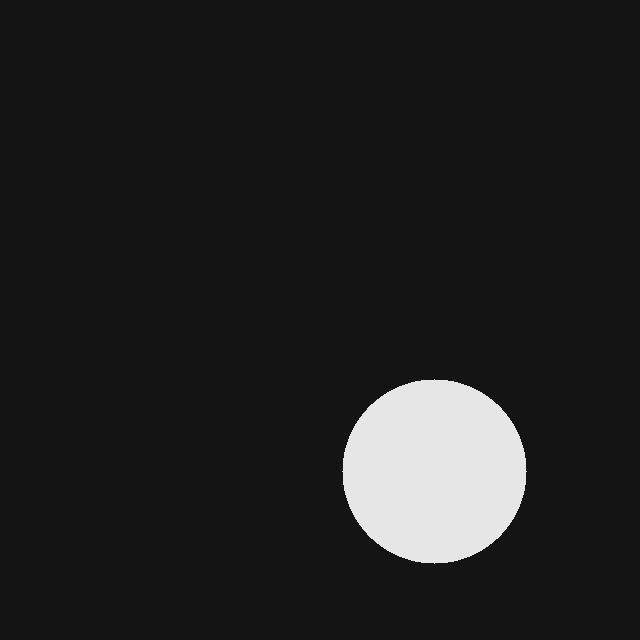circle: (342, 379, 526, 563)
